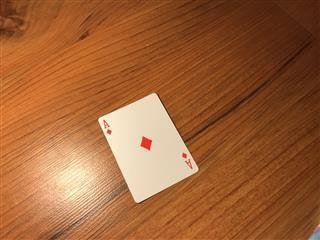AceOfDiamonds: (97, 92, 199, 203)
